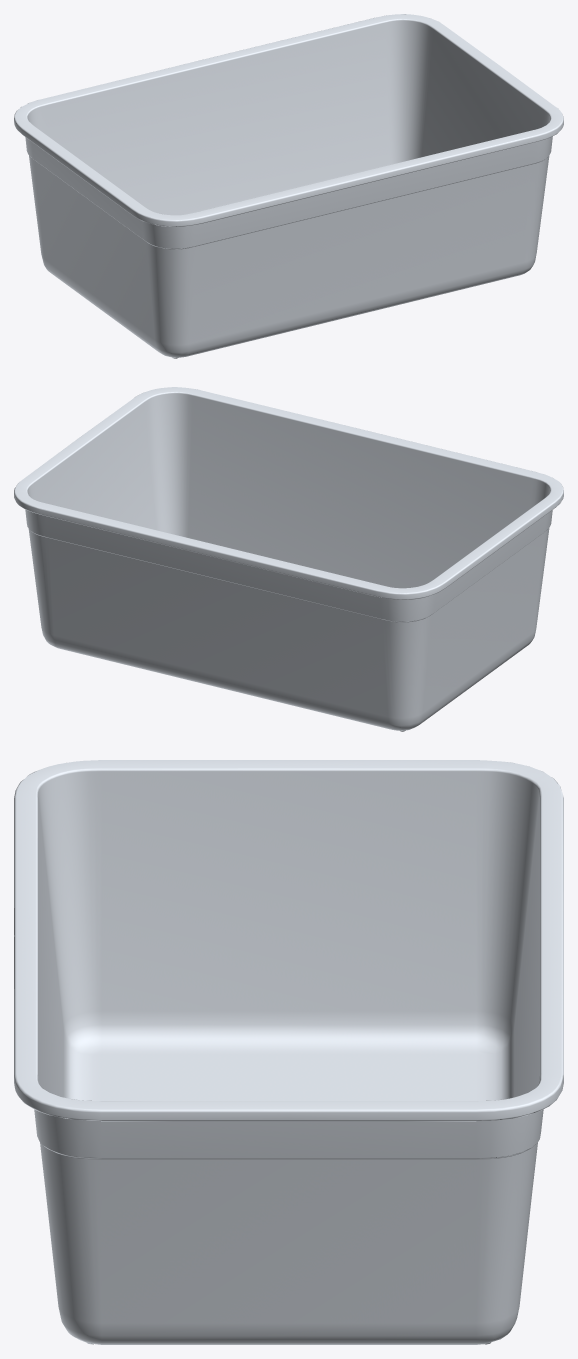
The model's file is ikea_365_pojemnik_na_zywnosc_80393065.glb.
3 views of the same model, one above another, from view 1: azimuth 30°, elevation 25°; view 2: azimuth 150°, elevation 25°; view 3: azimuth 270°, elevation 25° (orthographic). The views are drawn at different scales.
Visible parts, largest first — view 1: ikea_365_pojemnik_na_zywnosc_80393065; view 2: ikea_365_pojemnik_na_zywnosc_80393065; view 3: ikea_365_pojemnik_na_zywnosc_80393065.
Boxes of the visible parts, bbox=[...] form: ikea_365_pojemnik_na_zywnosc_80393065: bbox=[14, 14, 563, 358]; ikea_365_pojemnik_na_zywnosc_80393065: bbox=[14, 387, 563, 731]; ikea_365_pojemnik_na_zywnosc_80393065: bbox=[14, 760, 563, 1344].
Bounding box in the file's own units: 0.3144 × 0.111 × 0.2081.
1 material, 1 textured.
